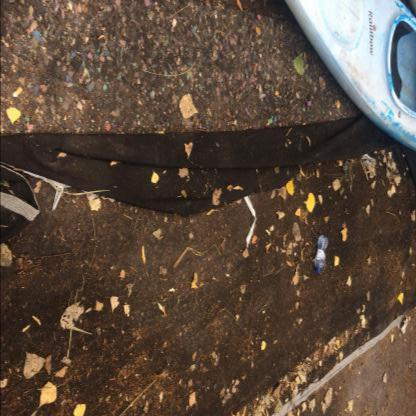Bottle: (316, 270, 321, 274)
Bottle cap: (314, 235, 328, 274)
Cigarette: (13, 87, 23, 98)
Paper: (244, 196, 256, 249)
